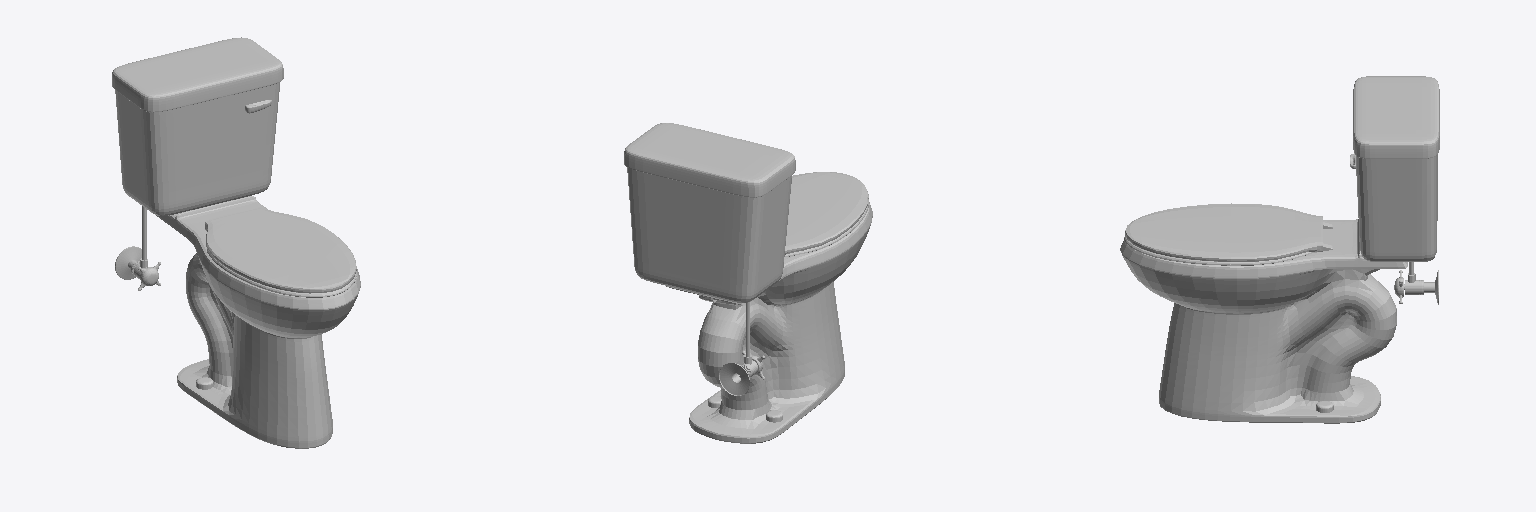
File: toilet.obj
3 renders of one model, left to right at view 1: azimuth 30°, elevation 25°; view 2: azimuth 150°, elevation 25°; view 3: azimuth 270°, elevation 25°, orthographic.
Parts seen in each view (by area): view 1: Circle.001, Plane, Circle.003, Plane.001, Circle.006, Circle.002; view 2: Circle.001, Plane, Plane.001, Circle.003, Circle.006; view 3: Circle.001, Circle.003, Plane, Plane.001, Circle.002.
Boxes of the visible parts, x1=… form: Circle.001: x1=156, y1=196, x2=360, y2=448; Plane: x1=115, y1=82, x2=279, y2=215; Circle.003: x1=205, y1=208, x2=356, y2=293; Plane.001: x1=112, y1=37, x2=283, y2=112; Circle.006: x1=115, y1=246, x2=146, y2=279; Circle.002: x1=207, y1=249, x2=356, y2=297; Circle.001: x1=666, y1=202, x2=872, y2=443; Plane: x1=627, y1=167, x2=791, y2=302; Plane.001: x1=624, y1=123, x2=795, y2=197; Circle.003: x1=785, y1=172, x2=868, y2=254; Circle.006: x1=719, y1=360, x2=757, y2=395; Circle.001: x1=1120, y1=219, x2=1407, y2=423; Circle.003: x1=1125, y1=203, x2=1322, y2=261; Plane: x1=1356, y1=155, x2=1437, y2=261; Plane.001: x1=1353, y1=76, x2=1439, y2=158; Circle.002: x1=1124, y1=235, x2=1316, y2=265.
Bounding box in the file's own units: 1.85 × 3.73 × 3.66.